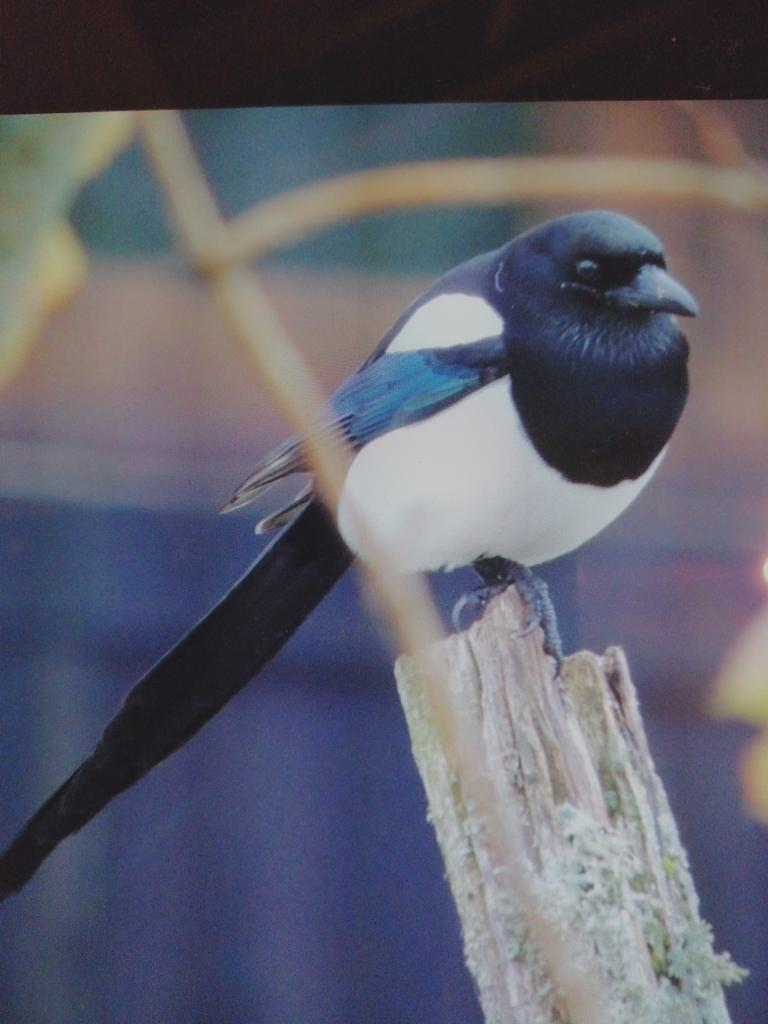PicaPica: (0, 208, 699, 900)
